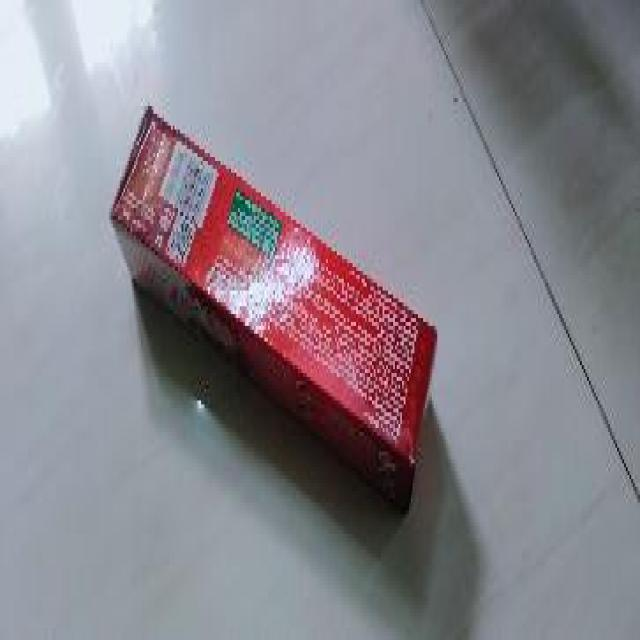tooth paste: (82, 84, 454, 517)
